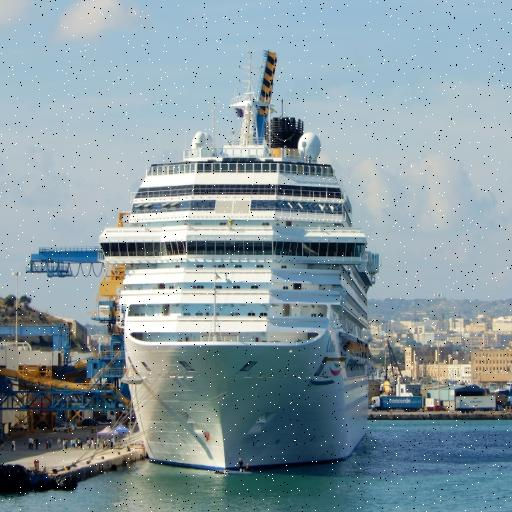cruises: (96, 39, 383, 475)
